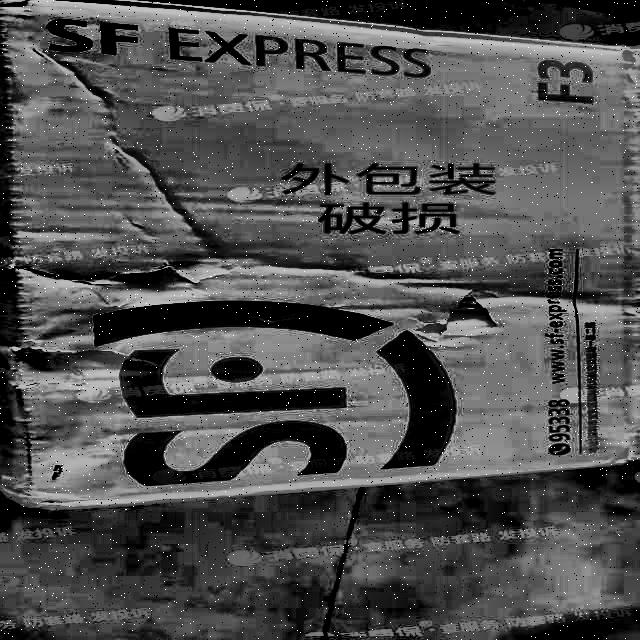box: (0, 0, 639, 521)
hole: (419, 289, 517, 343)
